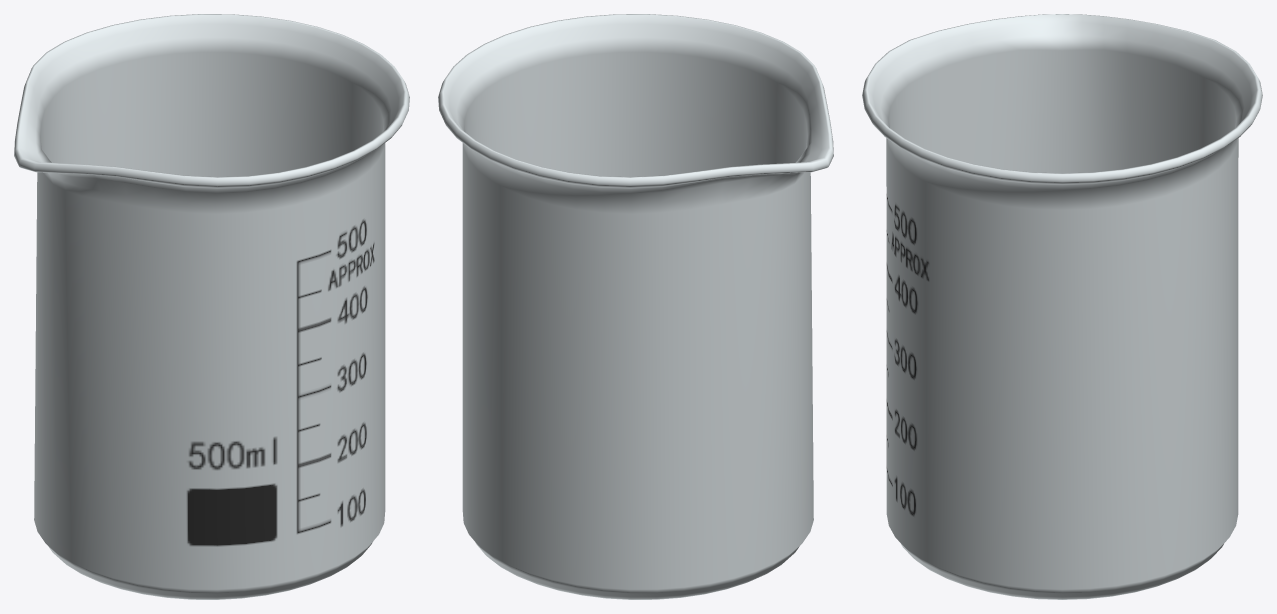
File: hx_fyl_500mlsb.fbx
3 views of the same model, side by side, from view 1: azimuth 30°, elevation 25°; view 2: azimuth 150°, elevation 25°; view 3: azimuth 270°, elevation 25° (orthographic).
Parts seen in each view (by area): view 1: hx_fyl_500mlsb; view 2: hx_fyl_500mlsb; view 3: hx_fyl_500mlsb.
Boxes of the visible parts, bbox=[...] form: hx_fyl_500mlsb: bbox=[14, 14, 409, 599]; hx_fyl_500mlsb: bbox=[438, 14, 833, 599]; hx_fyl_500mlsb: bbox=[862, 14, 1262, 599].
Bounding box in the file's own units: 10.43 × 11.96 × 9.81.
